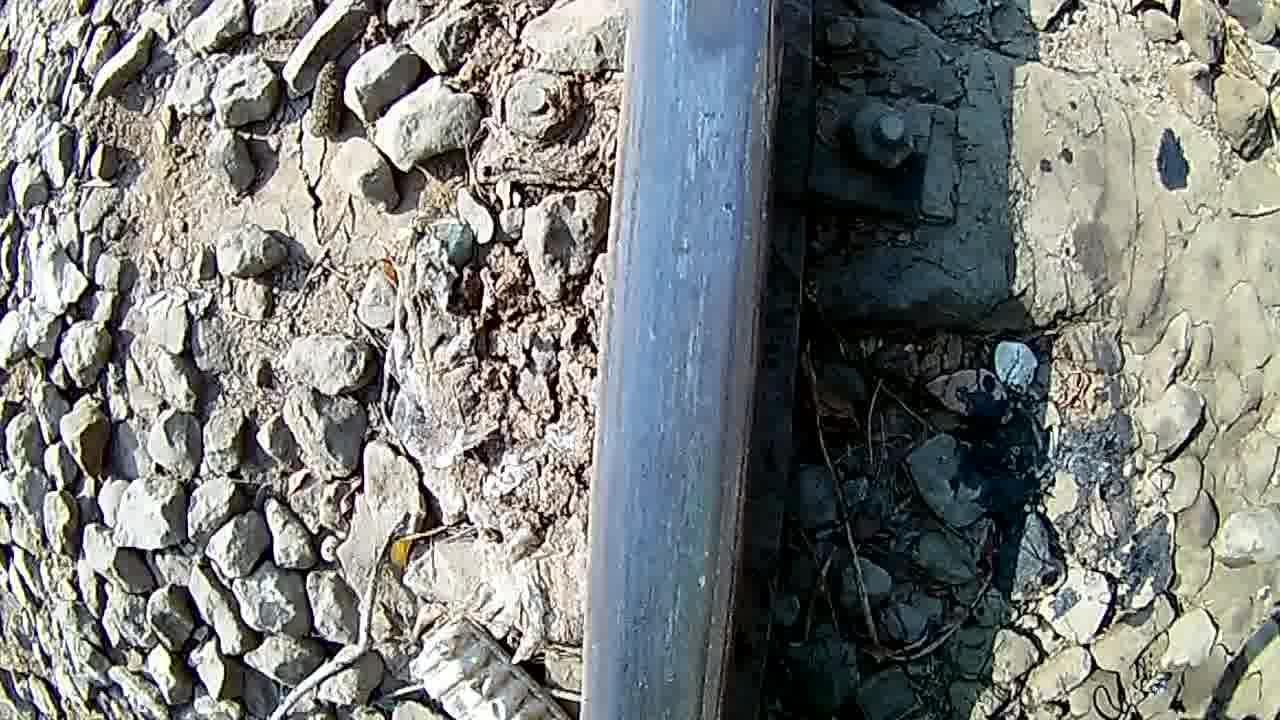crack: (644, 0, 778, 190)
